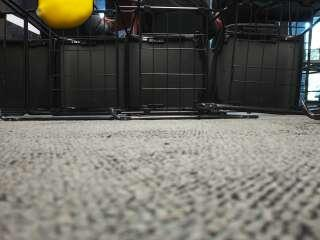lemon: (36, 0, 93, 29)
